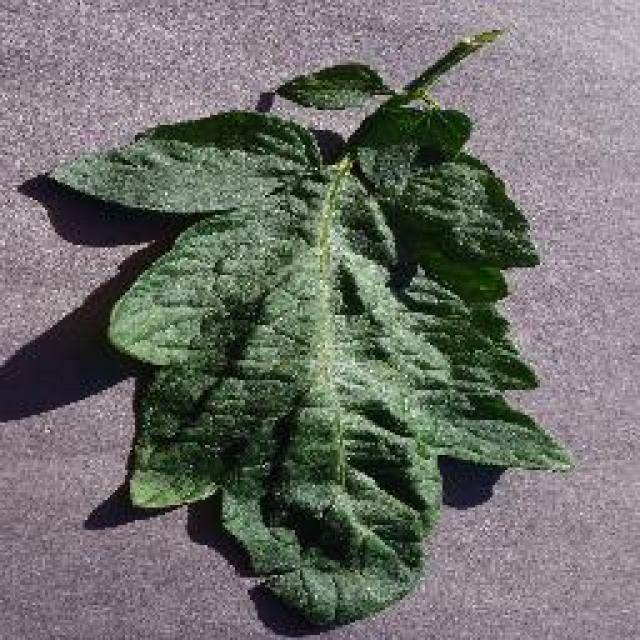Tomato___Target_Spot: (52, 30, 568, 622)
